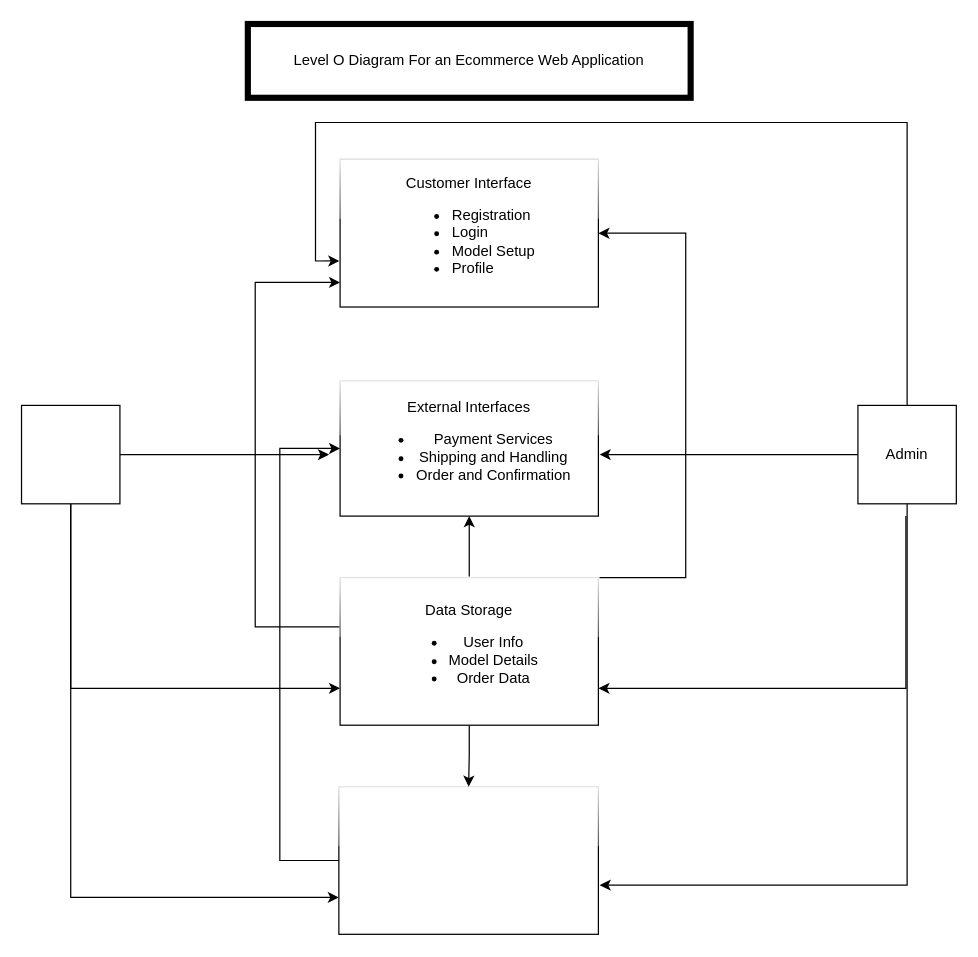
The diagram is 978 pixels wide and 957 high, and some of its shapes have lost their labels. The centre of each missing label's shape, as x and y in pixels:
Employee: point (70, 454)
Processing System Model Validation Pricing Checkout POS Integration: point (468, 859)
